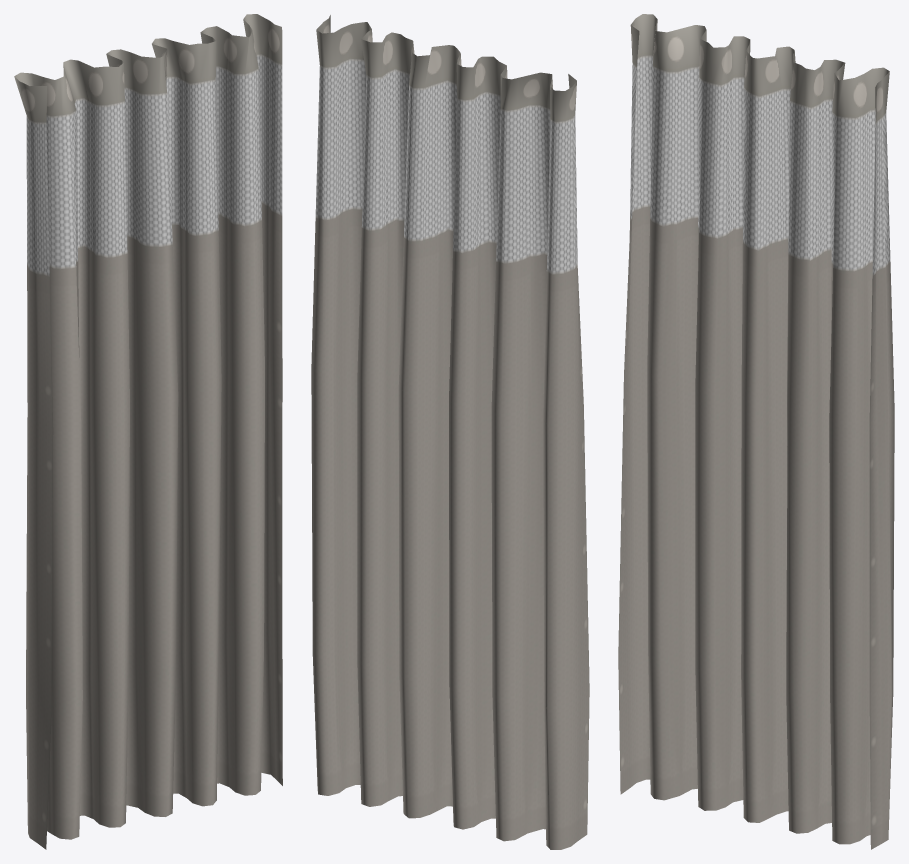
File: curtain.fbx
3 renders of one model, left to right at view 1: azimuth 30°, elevation 25°; view 2: azimuth 150°, elevation 25°; view 3: azimuth 330°, elevation 25°, orthographic.
Parts seen in each view (by area): view 1: SM_TrackCurtain_01e7; view 2: SM_TrackCurtain_01e7; view 3: SM_TrackCurtain_01e7.
Boxes of the visible parts, x1=… form: SM_TrackCurtain_01e7: x1=14, y1=14, x2=282, y2=849; SM_TrackCurtain_01e7: x1=311, y1=15, x2=589, y2=849; SM_TrackCurtain_01e7: x1=618, y1=14, x2=894, y2=849.
Bounding box in the file's own units: 1.16 × 3.32 × 0.2734.
